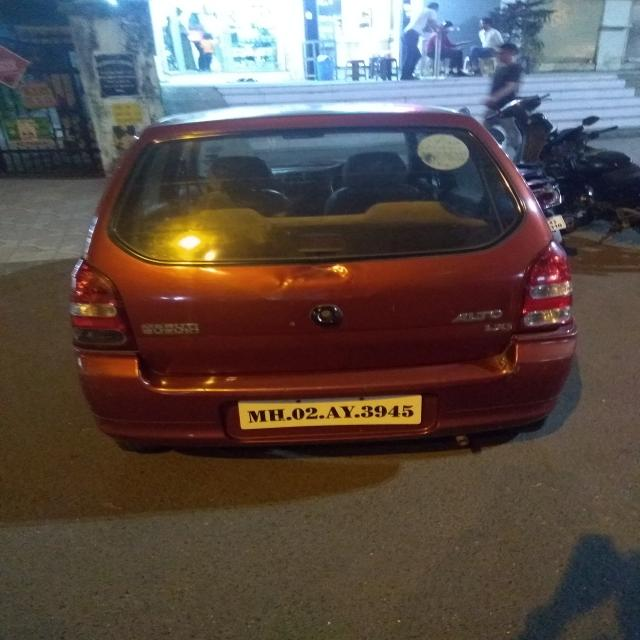Number-Plate: (238, 396, 422, 427)
